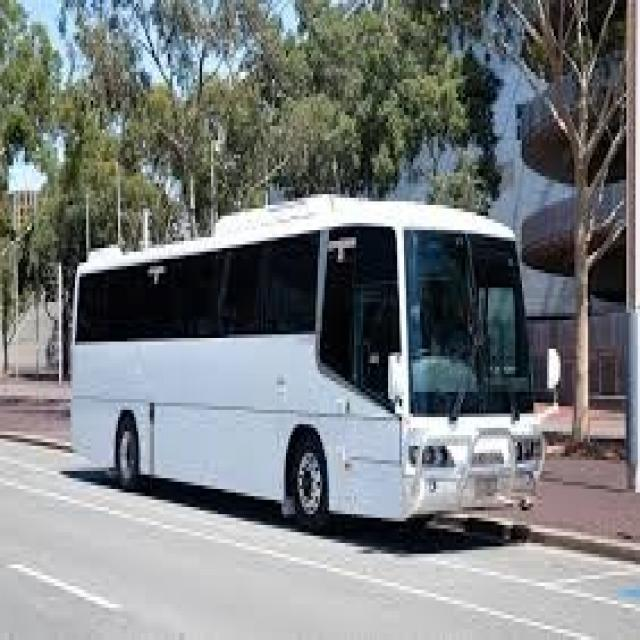bus: (56, 162, 582, 598)
